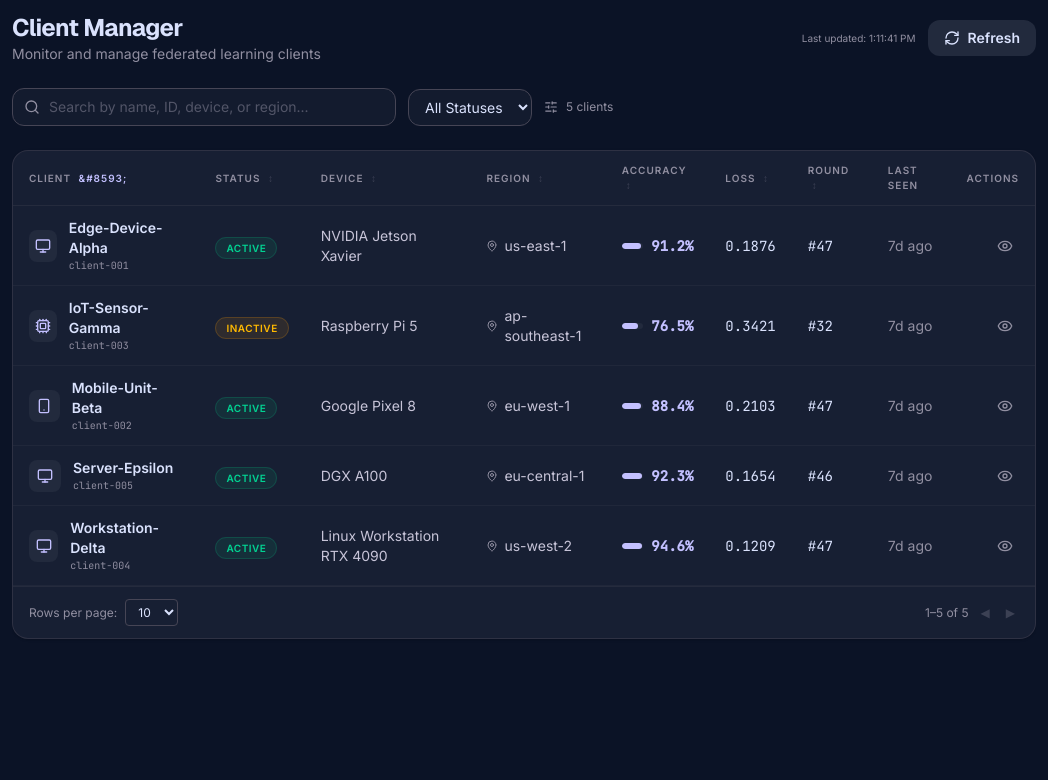
Clients page › searches by region
The width and height of the screenshot is (1048, 780).
Check: the text "Edge-Device-Alpha" is shown, box [69, 219, 162, 256]
In the field with placeholder "Search by name, ID, device, or region...": (204, 107) [12, 88, 396, 126], type "eu-"
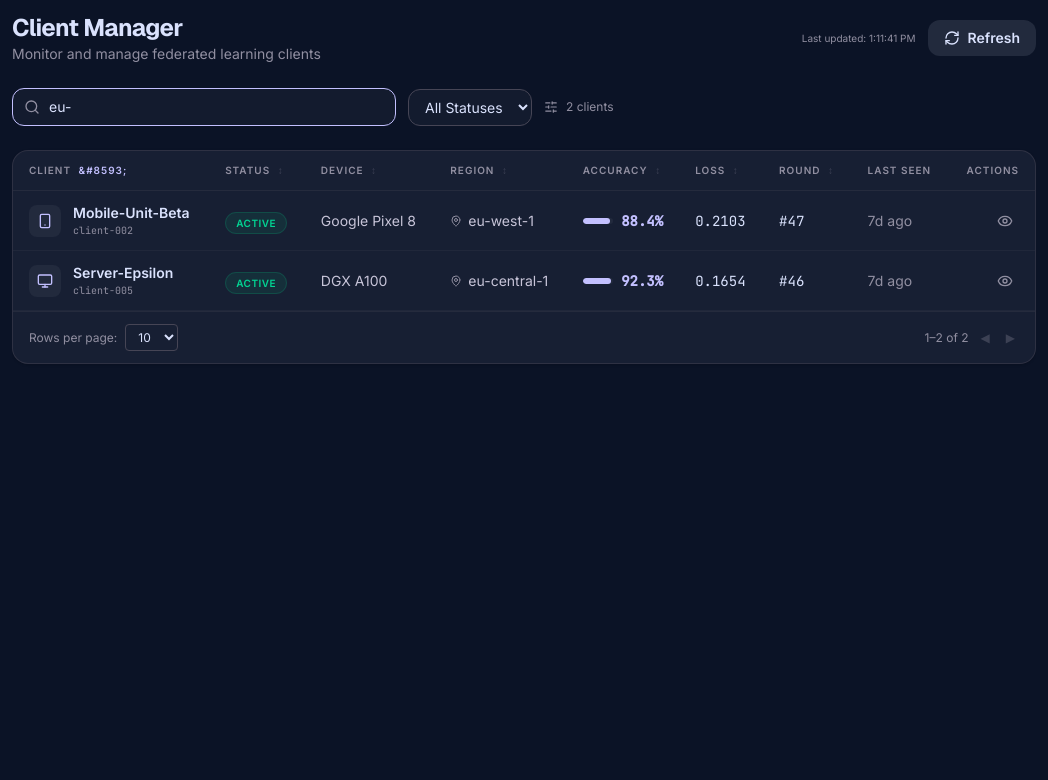
Check: the text "Mobile-Unit-Beta" is shown, box [73, 203, 190, 223]
Check: the text "Edge-Device-Alpha" is gone
